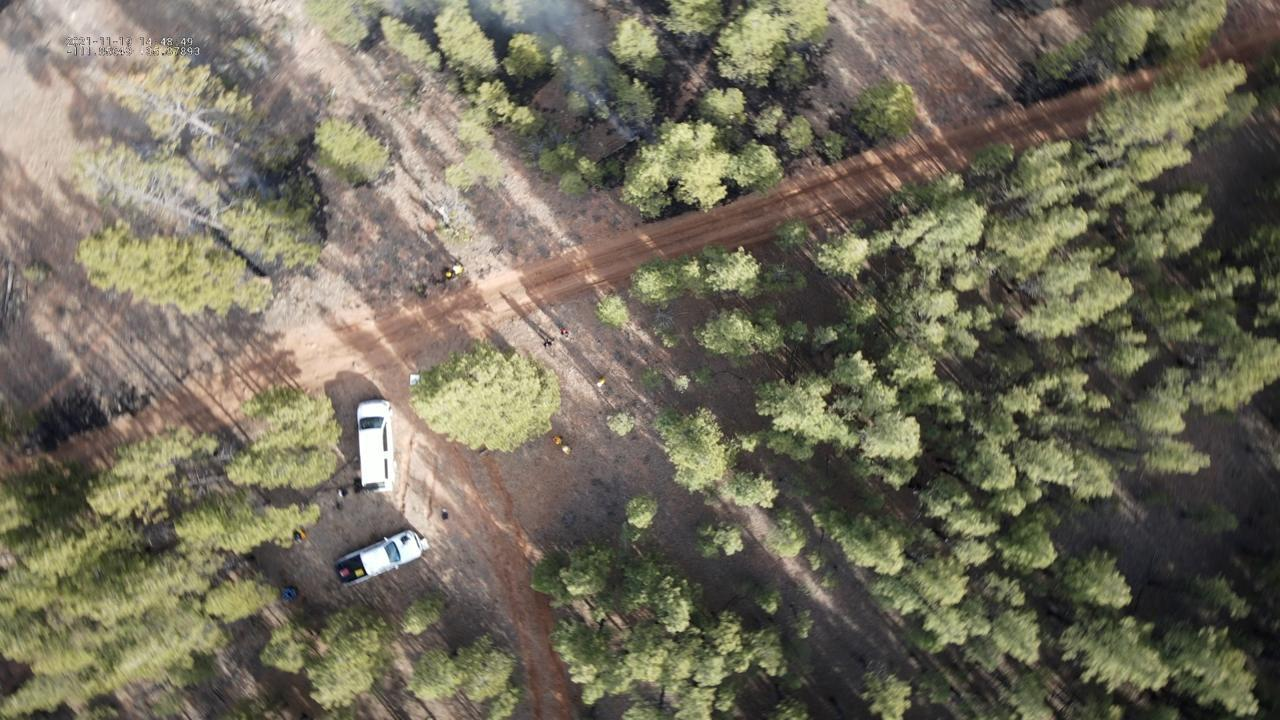smoke: (471, 0, 644, 146)
